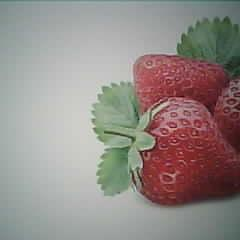straw-ripe: (133, 97, 240, 203)
